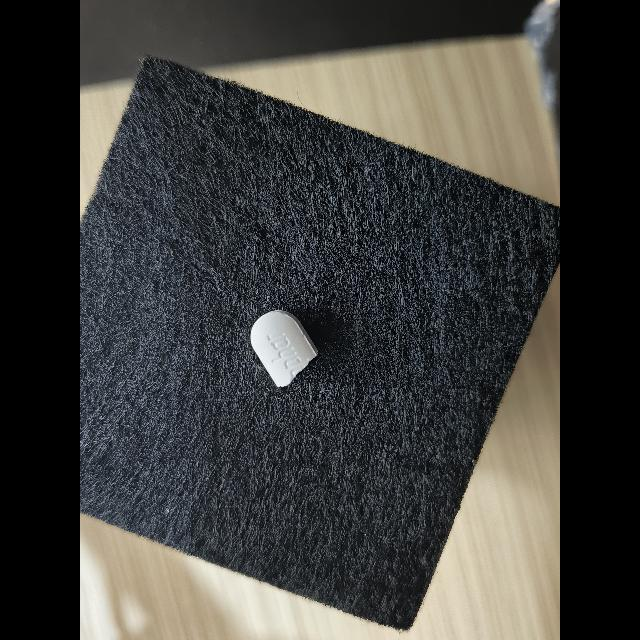Chipped Pill: (250, 310, 318, 387)
